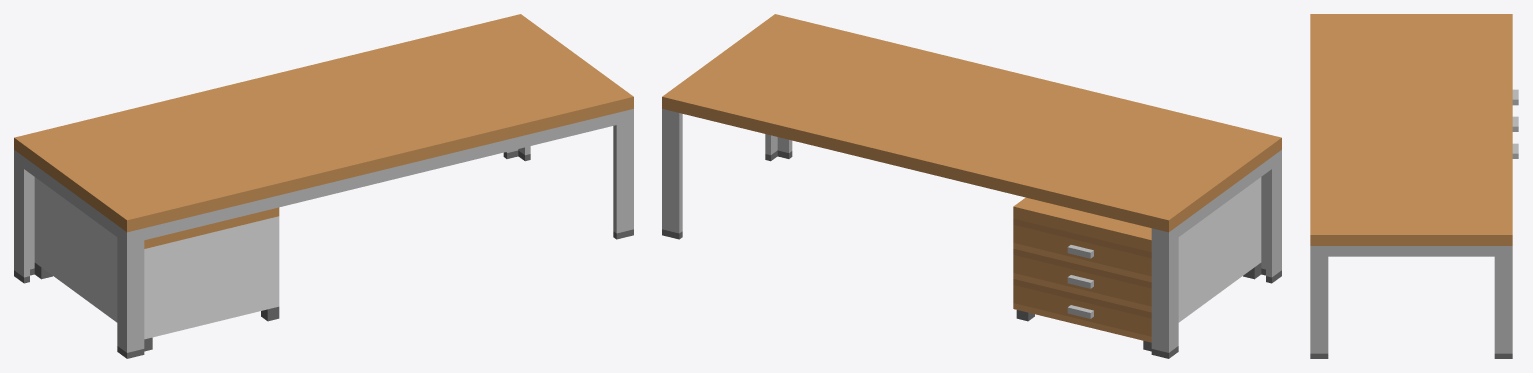
The model's file is Desk2-3.fbx.
3 views of the same model, side by side, from view 1: azimuth 30°, elevation 25°; view 2: azimuth 150°, elevation 25°; view 3: azimuth 270°, elevation 25° (orthographic). The views are drawn at different scales.
Parts seen in each view (by area): view 1: Desk2-3; view 2: Desk2-3; view 3: Desk2-3.
Boxes of the visible parts, x1,y1,x2,y2 form: Desk2-3: (14,14,633,358); Desk2-3: (662,14,1281,358); Desk2-3: (1310,14,1518,358).
Size of the model in its own units: 8.8 by 2.3 by 3.5.
